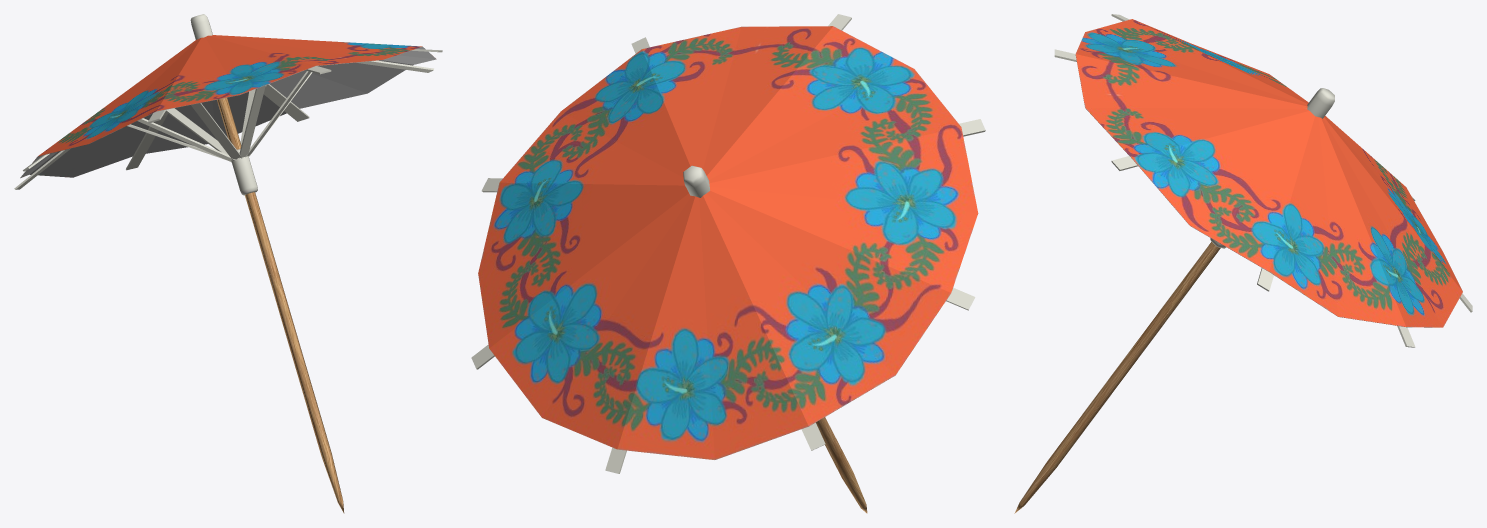
The model's file is cocktail_umbrella.glb.
3 renders of one model, left to right at view 1: azimuth 30°, elevation 25°; view 2: azimuth 150°, elevation 25°; view 3: azimuth 270°, elevation 25°, orthographic. The views are drawn at different scales.
Visible parts, largest first — view 1: paper, stick, umrealla_stick.001, umrealla_stick, stopper.001; view 2: paper, umrealla_stick, stick, stopper; view 3: paper, stick, umrealla_stick, stopper.
Boxes of the visible parts, box(x1,y1,x2,y2) form: paper: box(20, 35, 436, 178); stick: box(217, 97, 344, 513); umrealla_stick.001: box(127, 71, 312, 162); umrealla_stick: box(14, 49, 442, 189); stopper.001: box(231, 149, 257, 195); paper: box(478, 26, 978, 459); umrealla_stick: box(471, 14, 985, 473); stick: box(816, 417, 867, 513); stopper: box(683, 165, 709, 197); paper: box(1075, 19, 1462, 327); stick: box(1014, 242, 1220, 513); umrealla_stick: box(1054, 14, 1472, 347); stopper: box(1307, 88, 1334, 118).
Bounding box in the file's own units: 0.0544 × 0.0549 × 0.0494.
2 materials, 2 textured.
